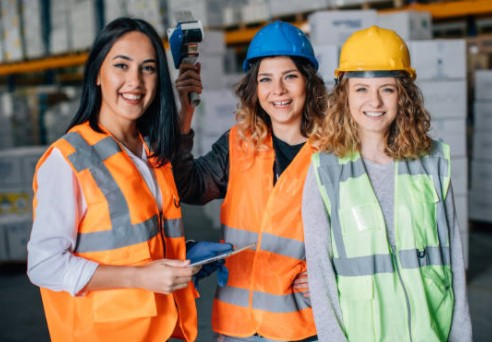worker: (33, 20, 197, 342), (312, 24, 453, 342), (212, 25, 323, 339)
